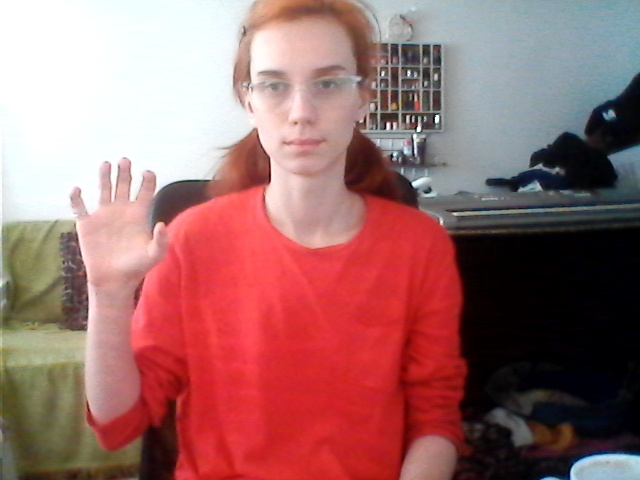budova: (65, 155, 175, 296)
